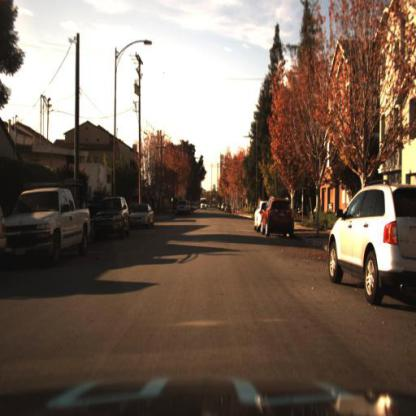car: (329, 178, 416, 308), (1, 176, 91, 267), (2, 180, 92, 270), (93, 194, 132, 243), (93, 197, 132, 240), (261, 197, 297, 240), (129, 200, 156, 233), (254, 198, 271, 235), (131, 205, 153, 228), (176, 198, 191, 217)
